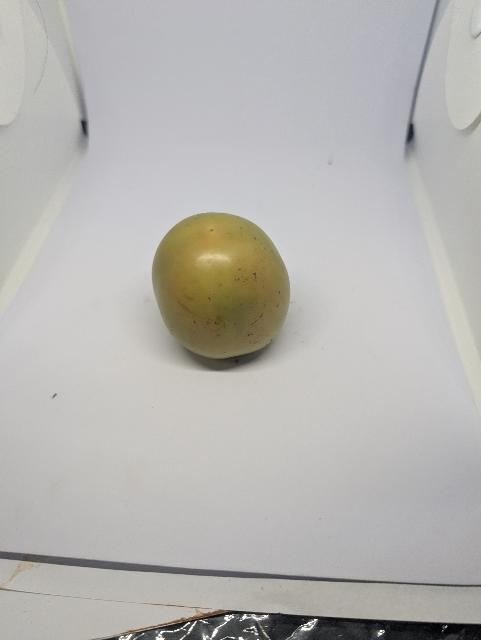breaker: (151, 210, 292, 364)
